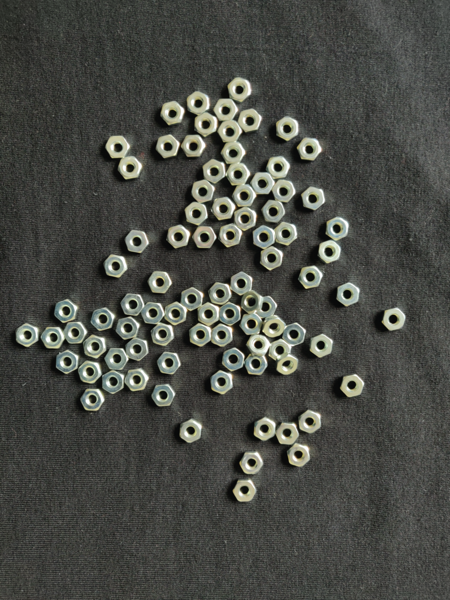nut: (160, 101, 186, 126), (228, 77, 252, 103), (181, 134, 207, 158), (118, 156, 143, 180), (156, 134, 180, 159), (271, 179, 296, 203), (301, 187, 326, 211), (261, 200, 286, 224), (326, 217, 350, 242), (211, 197, 236, 221), (274, 221, 298, 246), (218, 223, 242, 248), (125, 230, 150, 254), (282, 322, 306, 347), (78, 360, 103, 384), (287, 443, 311, 468), (213, 99, 239, 122), (297, 138, 323, 161), (231, 479, 257, 502), (187, 92, 211, 116), (106, 135, 130, 159), (167, 225, 191, 249), (260, 247, 284, 271), (310, 334, 334, 358), (91, 307, 115, 331), (151, 323, 175, 347), (83, 335, 107, 359), (195, 112, 218, 137), (203, 159, 226, 184), (226, 163, 251, 186), (250, 172, 275, 195), (232, 184, 257, 207), (185, 202, 208, 227), (318, 240, 341, 265), (298, 266, 323, 289), (337, 282, 360, 307), (230, 271, 253, 296), (241, 290, 264, 315), (262, 315, 287, 338), (340, 375, 365, 398), (16, 323, 39, 348), (102, 370, 125, 395), (124, 369, 149, 392), (151, 384, 176, 407), (210, 370, 233, 395), (299, 409, 322, 434), (239, 452, 264, 475), (277, 116, 299, 142), (239, 109, 262, 133), (267, 156, 290, 180), (192, 180, 216, 203), (234, 208, 257, 232), (382, 308, 406, 331), (104, 255, 128, 278), (208, 282, 232, 305), (54, 300, 78, 323), (116, 317, 140, 340), (56, 350, 79, 374), (126, 338, 149, 362), (157, 352, 181, 375), (222, 348, 245, 372), (276, 422, 300, 445), (218, 121, 243, 143), (221, 142, 246, 164), (253, 225, 275, 250), (192, 227, 217, 249), (148, 272, 173, 294), (181, 287, 203, 312), (63, 322, 88, 344), (246, 335, 271, 357), (254, 417, 276, 442), (219, 302, 241, 326), (240, 314, 264, 336), (41, 327, 65, 349), (121, 294, 145, 316), (164, 302, 186, 326), (141, 302, 165, 324), (190, 323, 212, 347), (105, 348, 129, 370), (81, 389, 105, 411), (180, 419, 202, 443), (256, 296, 278, 319), (269, 339, 292, 361), (276, 353, 299, 375), (198, 303, 219, 327), (212, 324, 233, 347), (245, 354, 268, 375)
